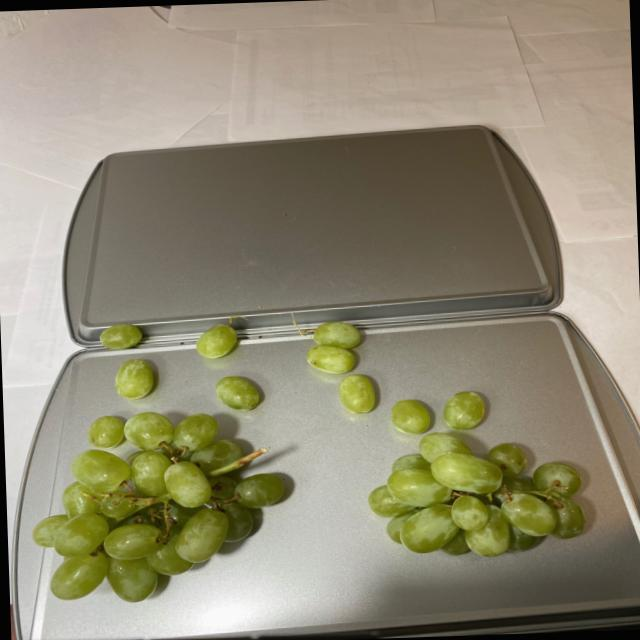grapes: (24, 308, 598, 576)
